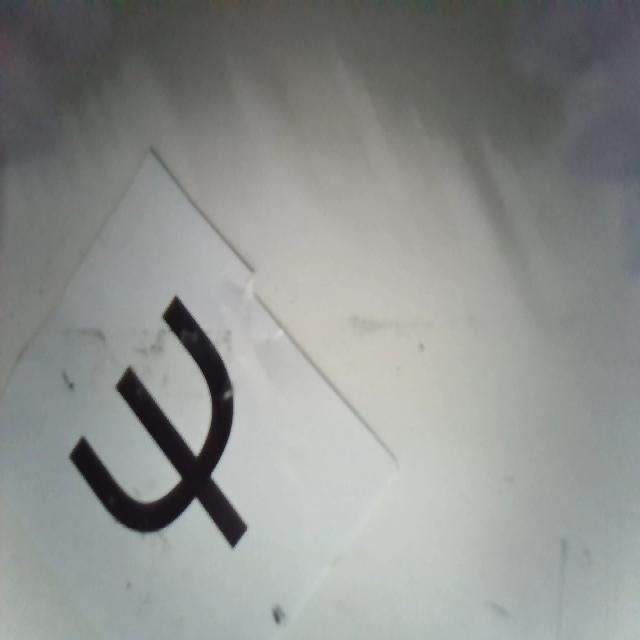nedoF: (68, 295, 249, 551)
